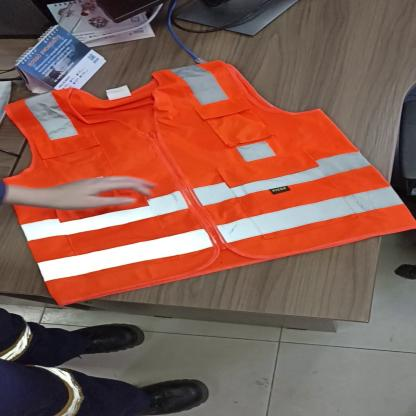colete: (0, 59, 416, 307)
